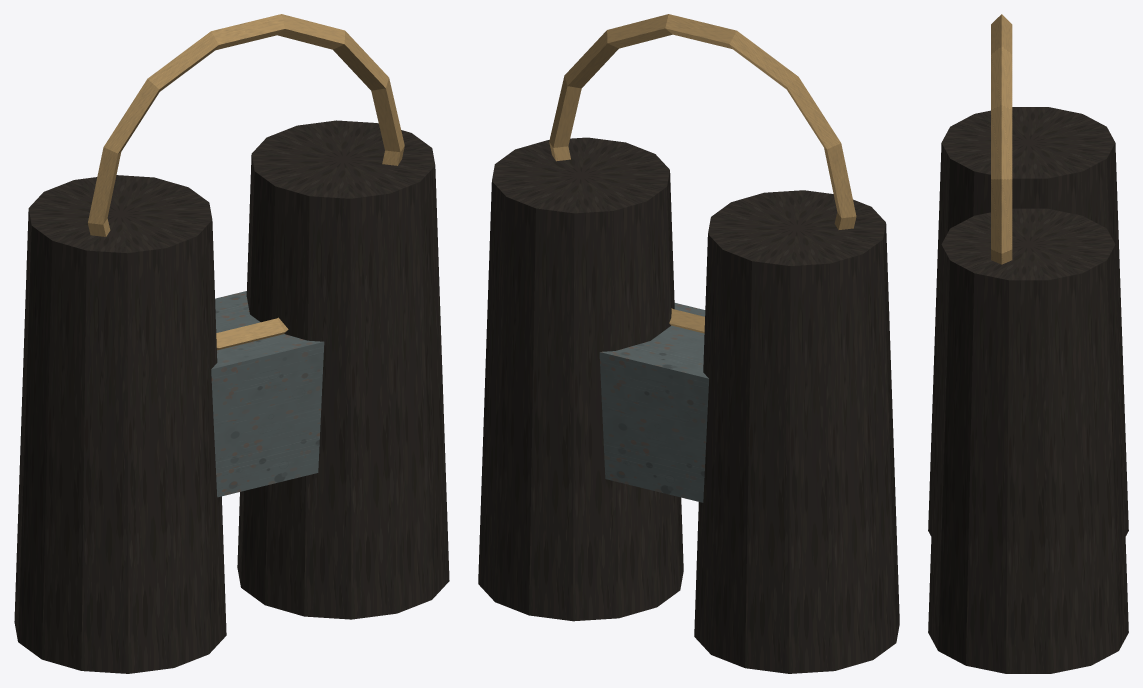
File: ax-tool-005_binoculars__clean.obj
The picture shows the model from 3 angles, left to right: view 1: azimuth 30°, elevation 25°; view 2: azimuth 150°, elevation 25°; view 3: azimuth 270°, elevation 25°; orthographic projection. The views are drawn at different scales.
Visible parts, largest first — view 1: ax-tool-005_binoculars__clean; view 2: ax-tool-005_binoculars__clean; view 3: ax-tool-005_binoculars__clean.
Boxes of the visible parts, left/top/right/bottom form: ax-tool-005_binoculars__clean: left=14, top=14, right=449, bottom=673; ax-tool-005_binoculars__clean: left=478, top=14, right=899, bottom=673; ax-tool-005_binoculars__clean: left=928, top=14, right=1128, bottom=673.
Bounding box in the file's own units: 0.1577 × 0.2199 × 0.0725.
Materials: 3 (3 with a texture image).
